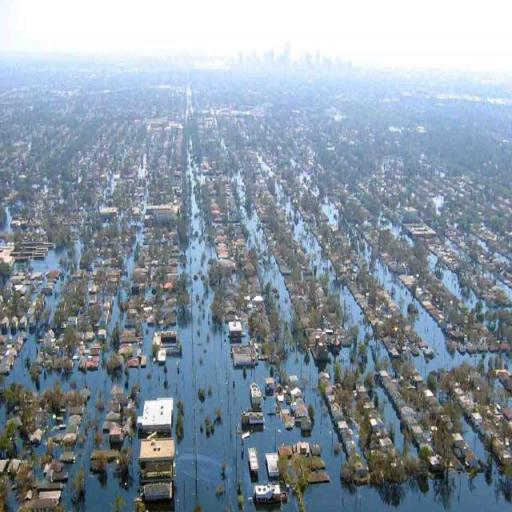flood: (3, 139, 512, 512), (376, 261, 482, 376), (234, 171, 294, 324), (275, 182, 338, 292), (339, 283, 392, 376), (429, 249, 482, 309), (374, 384, 408, 449), (126, 181, 149, 273), (307, 348, 358, 389), (387, 207, 438, 244), (30, 249, 66, 272), (478, 239, 511, 264), (107, 292, 121, 333), (321, 199, 339, 225), (45, 282, 59, 312), (142, 322, 154, 356), (0, 206, 11, 241), (493, 281, 512, 300), (446, 238, 461, 255), (74, 238, 82, 269), (299, 170, 313, 186), (1, 404, 8, 434), (434, 195, 445, 208), (313, 186, 320, 197), (8, 504, 17, 512)
house: (138, 438, 176, 482), (139, 396, 176, 434), (30, 488, 62, 512), (232, 345, 257, 367), (254, 484, 284, 502), (156, 329, 178, 353), (225, 319, 247, 342), (241, 408, 263, 430), (265, 452, 280, 478), (292, 402, 312, 420), (127, 354, 143, 367)
